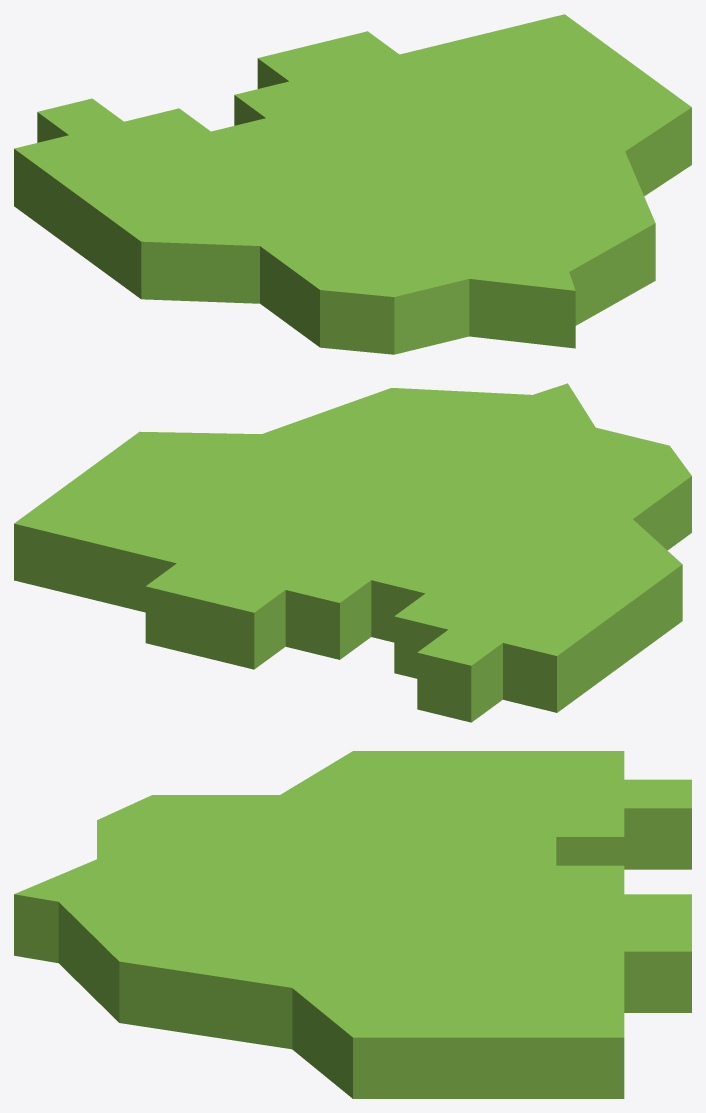
Rendered from x_zem_0_26_1_rmstrd.fbx.
3 views of the same model, one above another, from view 1: azimuth 30°, elevation 25°; view 2: azimuth 150°, elevation 25°; view 3: azimuth 270°, elevation 25° (orthographic). The views are drawn at different scales.
Parts seen in each view (by area): view 1: x_zem_0_26_1_rmstrd1; view 2: x_zem_0_26_1_rmstrd1; view 3: x_zem_0_26_1_rmstrd1.
Part boxes in pixels (x1,y1,x2,y2): x_zem_0_26_1_rmstrd1: (14, 14, 691, 354); x_zem_0_26_1_rmstrd1: (14, 383, 691, 722); x_zem_0_26_1_rmstrd1: (14, 751, 691, 1098).
Bounding box in the file's own units: 10 × 1 × 10.
